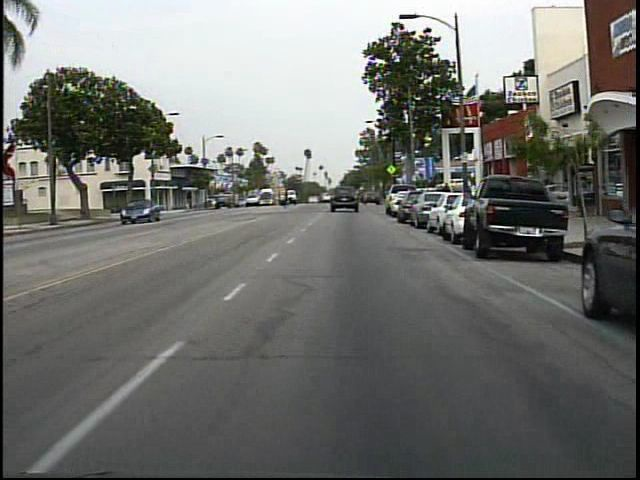person: (436, 179, 456, 216), (280, 185, 294, 214)
